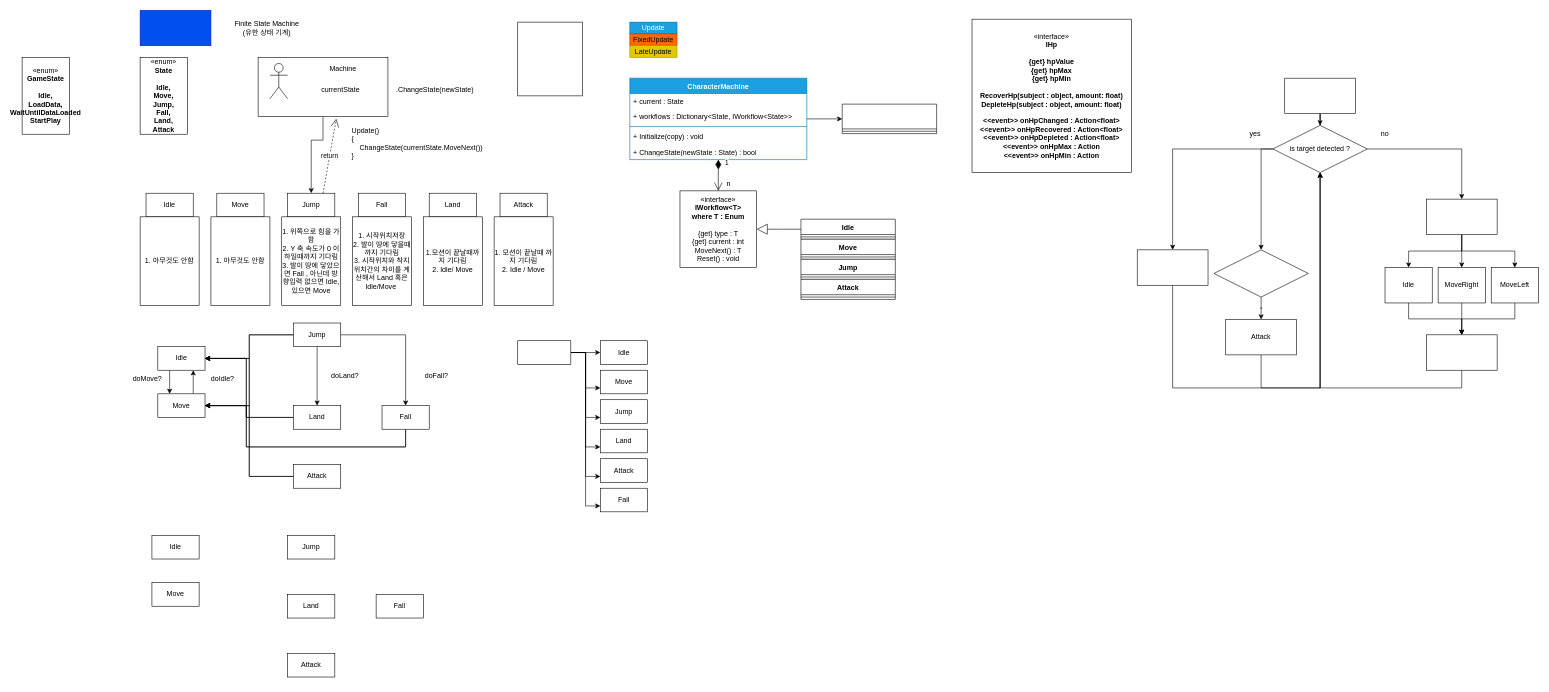
Image size: 1549x692. Some labels were removed from this diagram. The shapes that lost their labels are listed below. From the top down, each one's centre as x and y in pixels, then its label:
(175,28): FSM
(550,59): «interface» IEnumerator<T> {get} current : T MoveNext() : bool Reset() : void
(278,81): Actor
(1320,96): Think
(889,119): CharacterStateWorkflows DataSheet
(1461,217): Decide random behaviour time
(1172,267): Follow
(1260,273): is target in attack range ?
(544,352): AnyState
(1461,352): Wait until behaviour time
